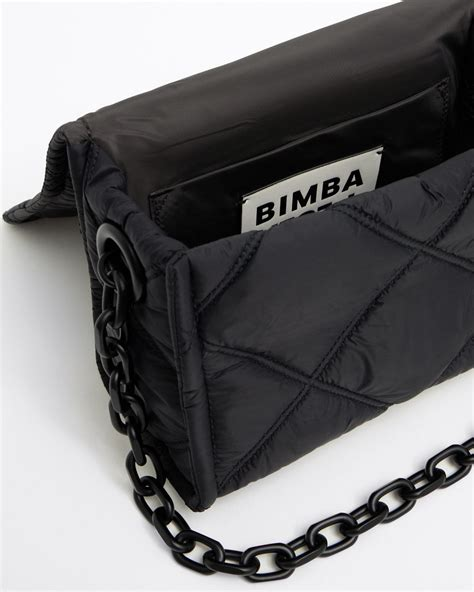nylon: (76, 151, 474, 510)
